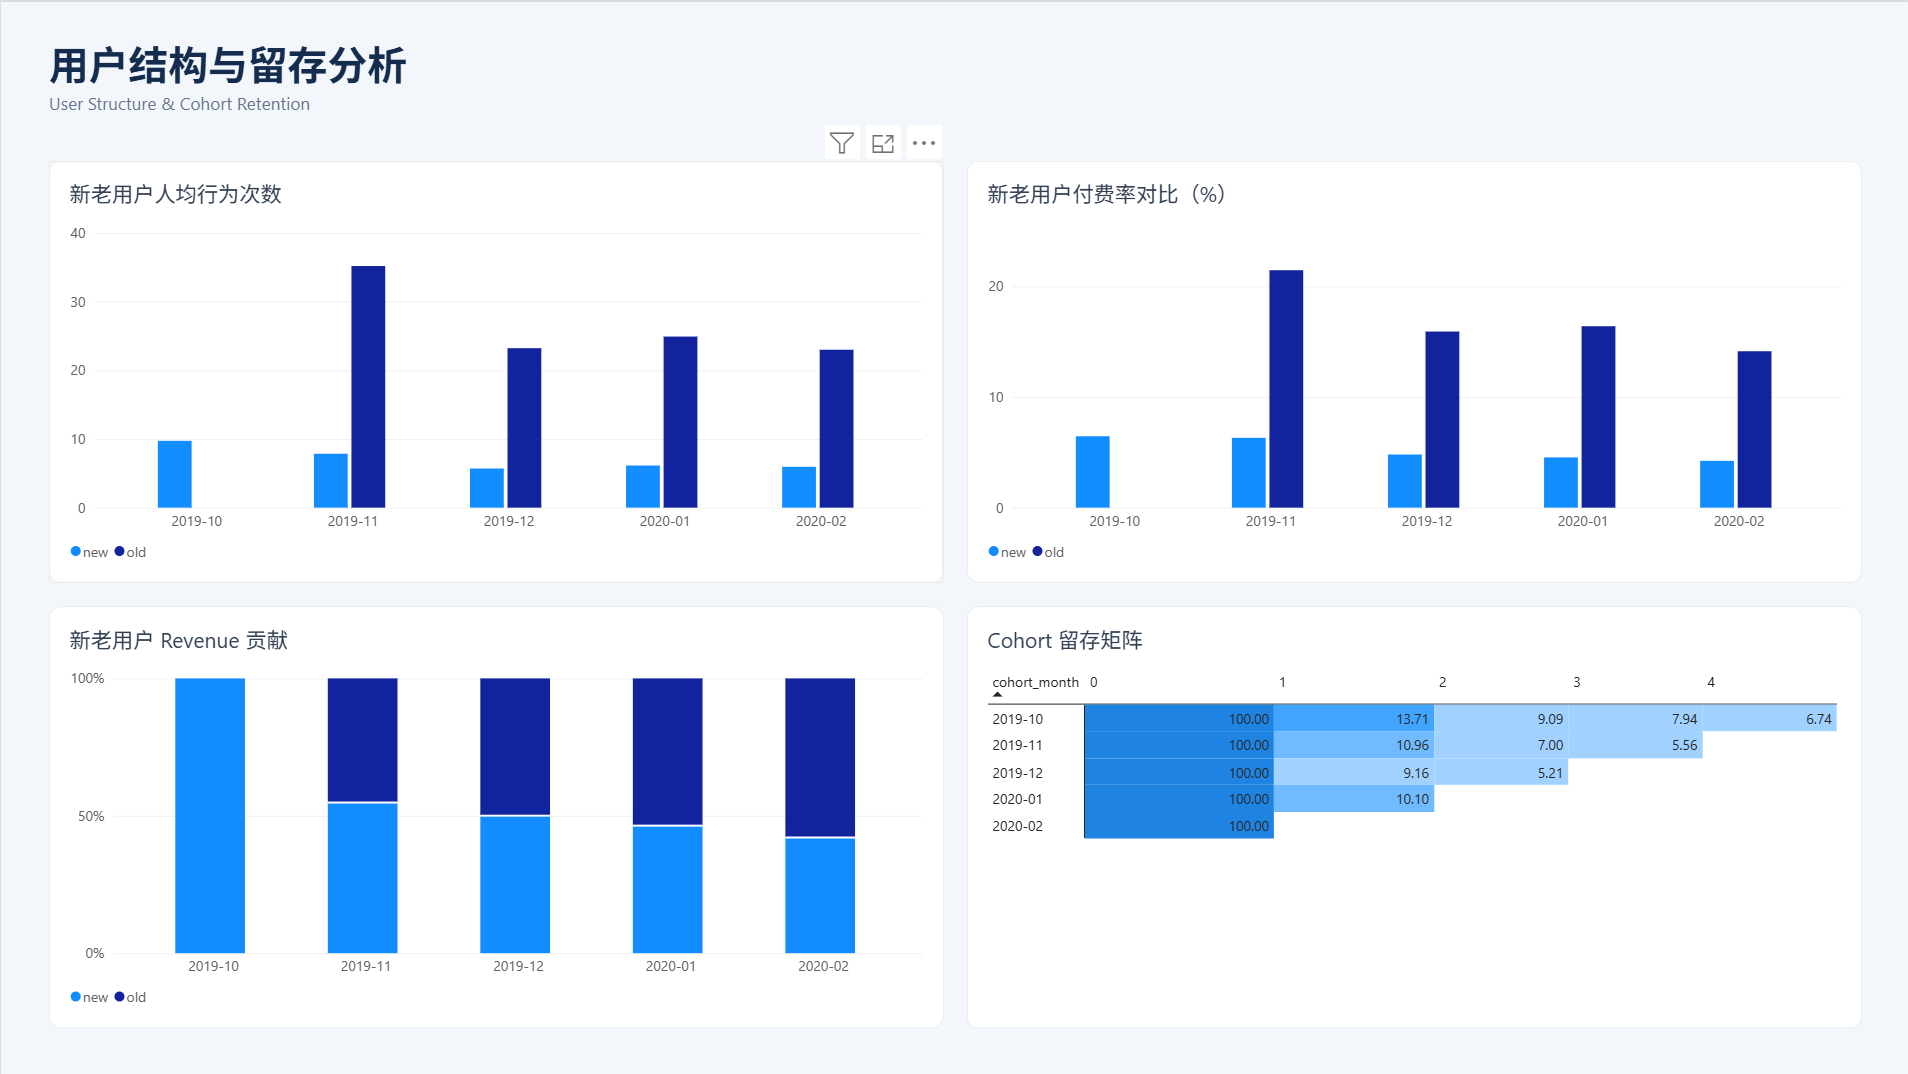

What the dashboard file says about the page in this screenshot:
{"tool":"powerbi","page":{"name":"03 用户与留存","canvas":[1920,1080],"ordinal":2},"visuals":[{"type":"clusteredColumnChart","title":"新老用户人均行为次数","fields":{"Category":["user_structure.event_month"],"Series":["user_structure.user_type"],"Y":["Sum(user_structure.events_per_user)"]},"box":[48,160,900,424],"z":0},{"type":"clusteredColumnChart","title":"新老用户付费率对比（%）","fields":{"Category":["user_structure.event_month"],"Series":["user_structure.user_type"],"Y":["Sum(user_structure.paid_purchase_rate)"]},"box":[972,160,900,424],"z":1},{"type":"hundredPercentStackedColumnChart","title":"新老用户 Revenue 贡献","fields":{"Category":["user_structure.event_month"],"Series":["user_structure.user_type"],"Y":["Sum(user_structure.revenue)"]},"box":[48,608,900,424],"z":2},{"type":"pivotTable","title":"Cohort 留存矩阵","fields":{"Columns":["cohort_retention.month_number"],"Rows":["cohort_retention.cohort_month"],"Values":["Sum(cohort_retention.retention_rate)"]},"box":[972,608,900,424],"z":3},{"type":"textbox","box":[48,32,1824,104],"z":4}]}

Visuals, with their boxes in screenshot pixels (x1, y1, x2, y2), scaled from the page's 1920x1080 canvas onto the 1908x1074 screenshot:
"新老用户人均行为次数" clusteredColumnChart: pyautogui.locateOnScreen(48, 159, 942, 581)
"新老用户付费率对比（%）" clusteredColumnChart: pyautogui.locateOnScreen(966, 159, 1860, 581)
"新老用户 Revenue 贡献" hundredPercentStackedColumnChart: pyautogui.locateOnScreen(48, 605, 942, 1026)
"Cohort 留存矩阵" pivotTable: pyautogui.locateOnScreen(966, 605, 1860, 1026)
textbox: pyautogui.locateOnScreen(48, 32, 1860, 135)
